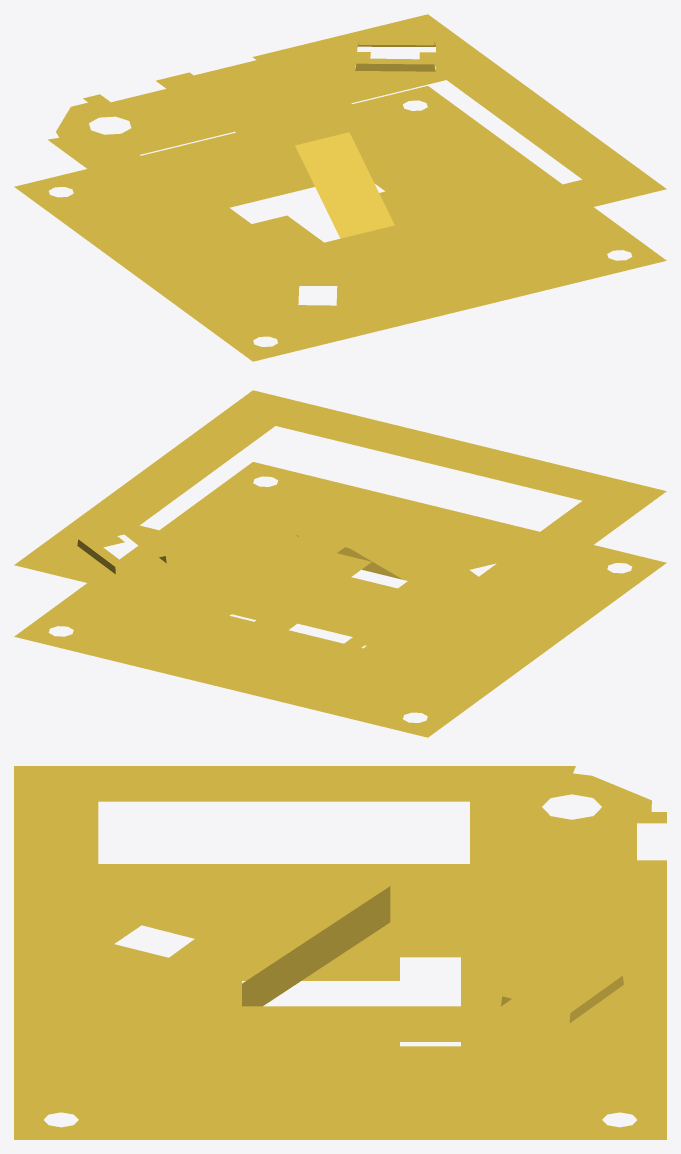
File: mansion_nav_mesh.glb
3 views of the same model, one above another, from view 1: azimuth 30°, elevation 25°; view 2: azimuth 150°, elevation 25°; view 3: azimuth 270°, elevation 25° (orthographic). The views are drawn at different scales.
Parts seen in each view (by area): view 1: Mansion_Nav_Mesh; view 2: Mansion_Nav_Mesh; view 3: Mansion_Nav_Mesh.
Boxes of the visible parts, box(x1,y1,x2,y2) form: Mansion_Nav_Mesh: box(14, 14, 666, 361); Mansion_Nav_Mesh: box(14, 390, 666, 737); Mansion_Nav_Mesh: box(14, 766, 666, 1139).
Size of the model in its own units: 22.4 by 4.07 by 22.4.
